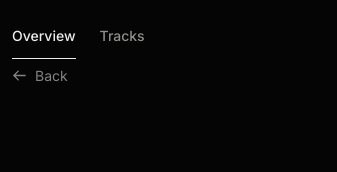
Test case: rider navigation › returns to the source page after changing rider tabs
Click the link "Tracks" at (122, 36), box x1=100 y1=27 x2=145 y2=44
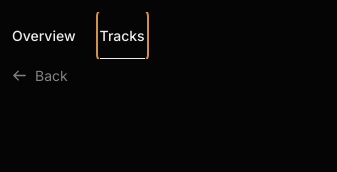
Click the button "Back" at (40, 75), box x1=12 y1=59 x2=68 y2=91
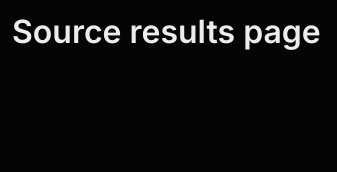
Expected: the heading "Source results page" is shown, x1=12 y1=12 x2=321 y2=51
